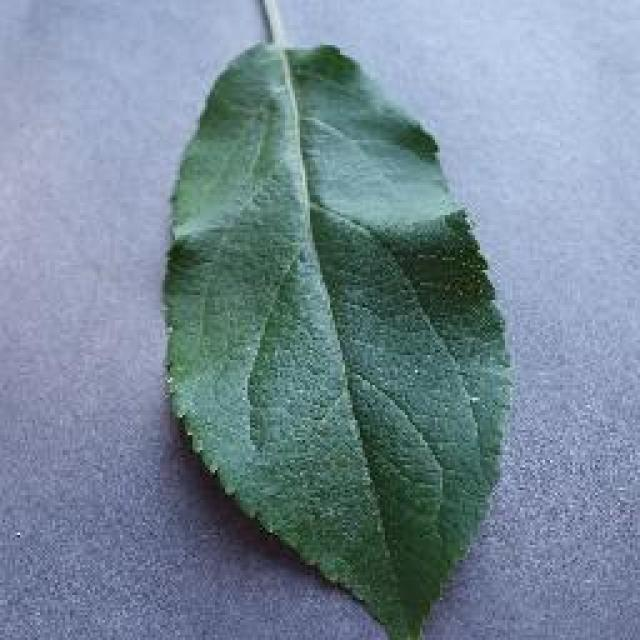apple healthy: (157, 32, 515, 638)
